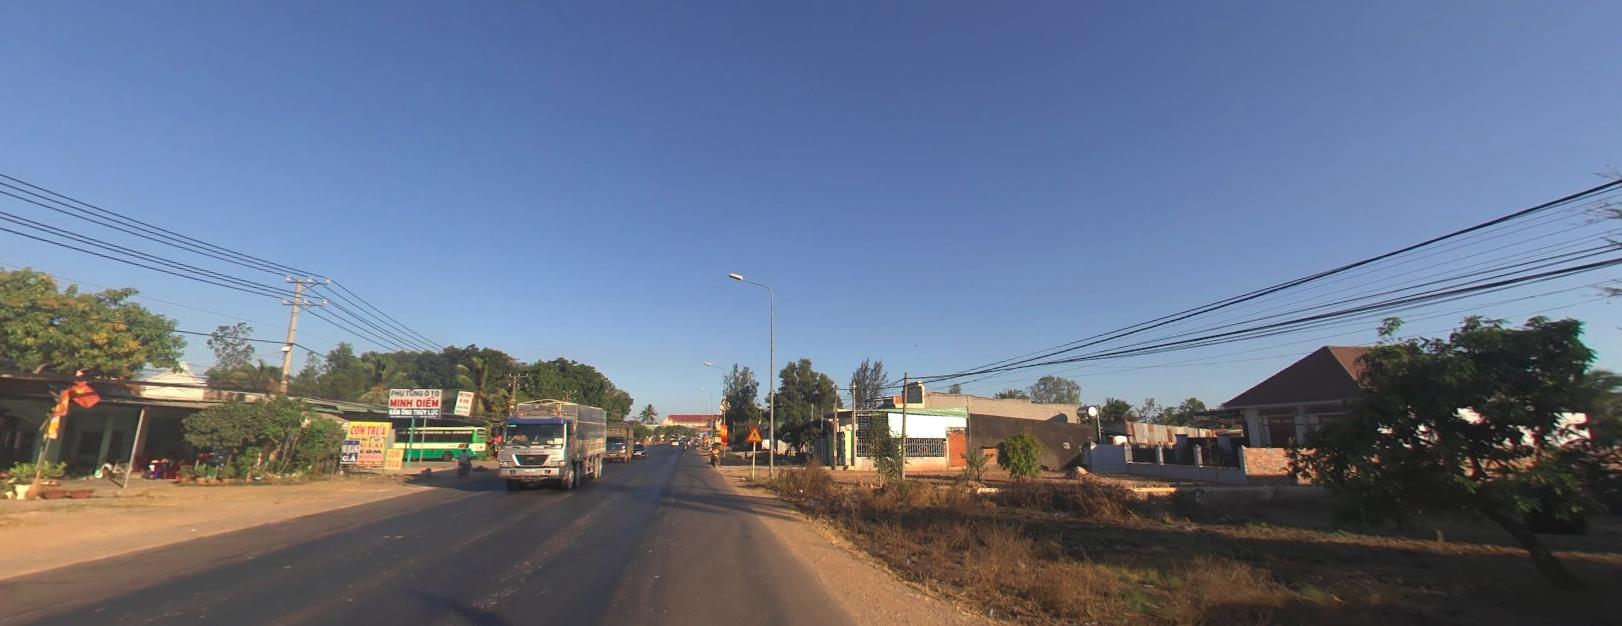Nguy hiem: (745, 426, 762, 441)
